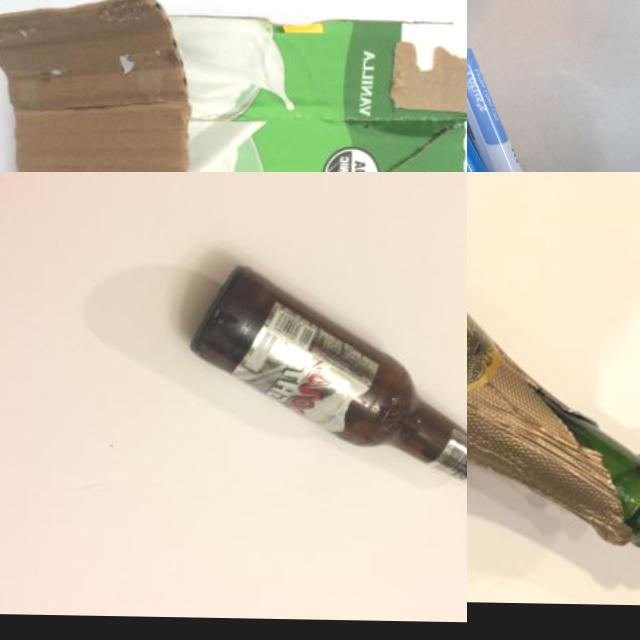bateria: (467, 47, 528, 172)
garrafa de vidro: (186, 263, 467, 499), (467, 172, 640, 547)
papelão: (0, 8, 467, 172)
